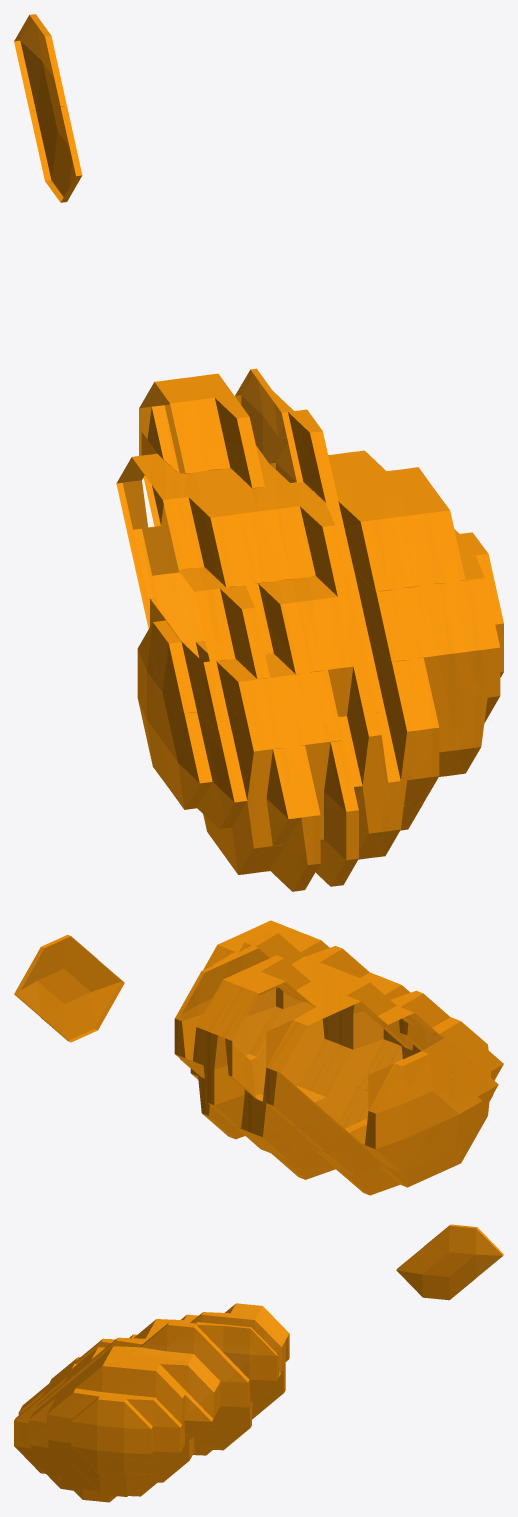
File: SVV_Fragment17.gltf
The picture shows the model from 3 angles, top to bottom: view 1: azimuth 30°, elevation 25°; view 2: azimuth 150°, elevation 25°; view 3: azimuth 270°, elevation 25°; orthographic projection. The views are drawn at different scales.
Visible parts, largest first — view 1: Fragment17; view 2: Fragment17; view 3: Fragment17.
Boxes of the visible parts, bbox=[...] form: Fragment17: bbox=[14, 14, 503, 891]; Fragment17: bbox=[14, 920, 503, 1195]; Fragment17: bbox=[14, 1224, 503, 1502].
Bounding box in the file's own units: 4608 × 7248 × 11747.
